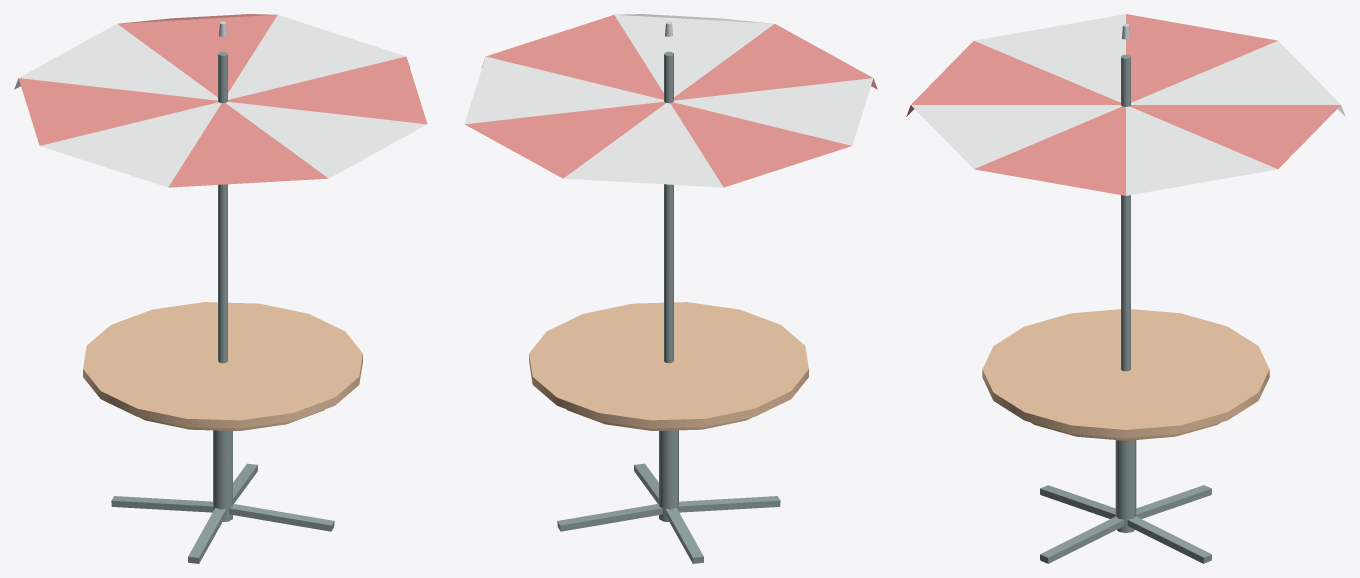
The model's file is patioSet.glb.
3 renders of one model, left to right at view 1: azimuth 30°, elevation 25°; view 2: azimuth 150°, elevation 25°; view 3: azimuth 270°, elevation 25°, orthographic.
Visible parts, largest first — view 1: patioSet; view 2: patioSet; view 3: patioSet.
Boxes of the visible parts, left/top/right/bottom form: patioSet: left=14, top=14, right=427, bottom=563; patioSet: left=464, top=14, right=877, bottom=563; patioSet: left=906, top=14, right=1345, bottom=563.
Size of the model in its own units: 0.95 by 1.2 by 0.95.
